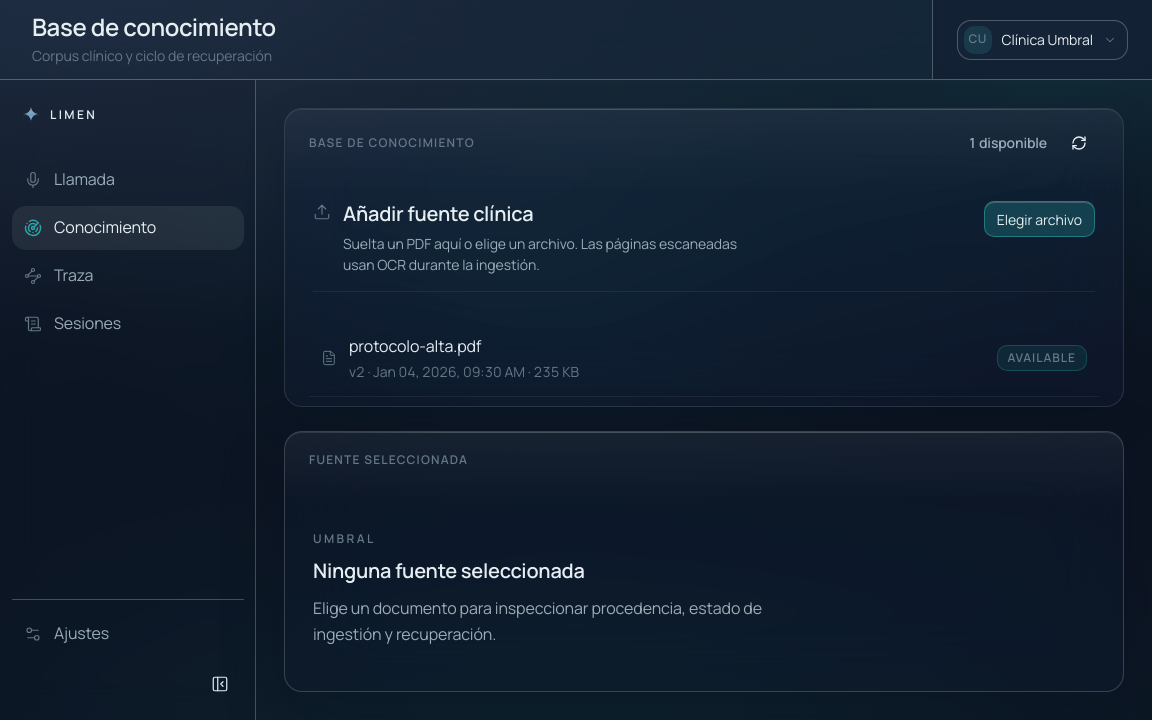
Knowledge console › names the document in the delete confirmation
Click the text "protocolo-alta.pdf": coordinates (415, 346) [349,335,481,357]
(page scrolled)
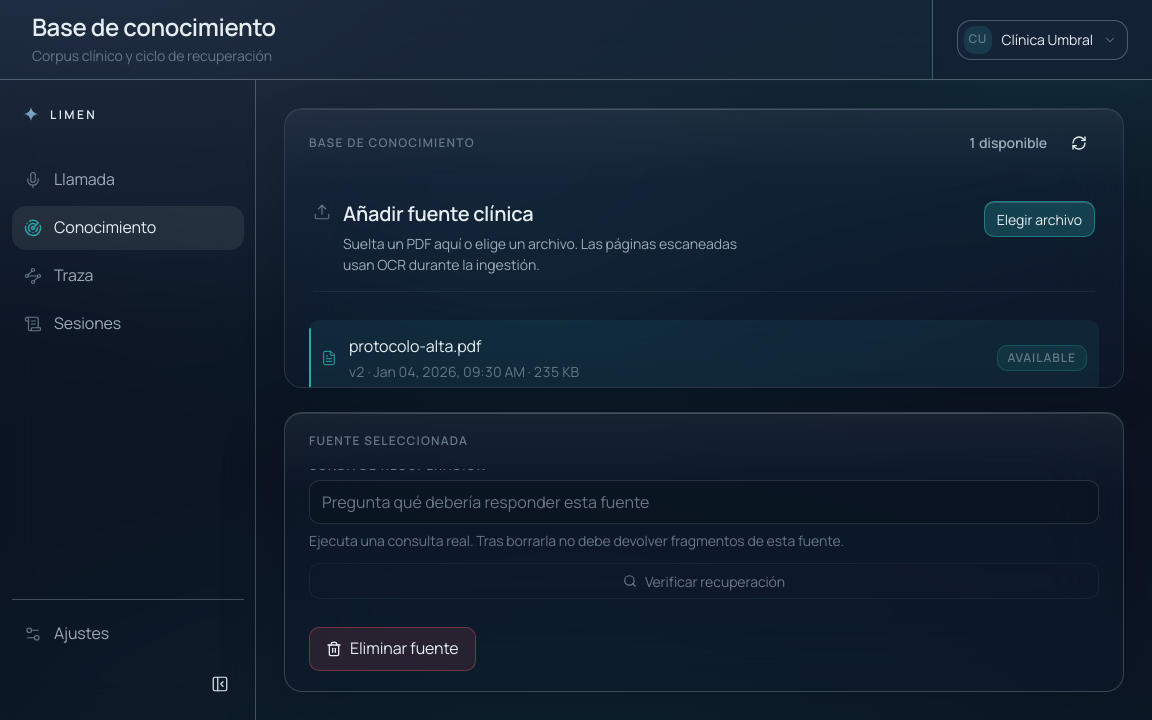
Click the button "Eliminar fuente": coordinates (392, 649) [309,627,476,671]
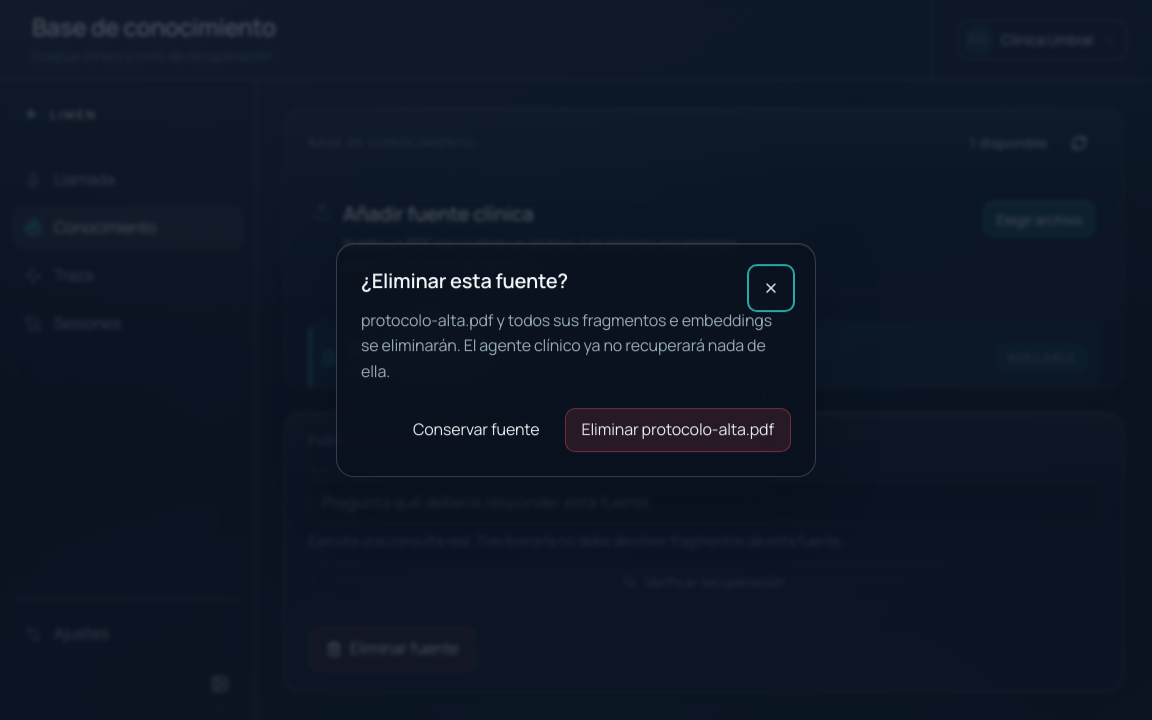
Check: the dialog "Eliminar esta fuente" shows "protocolo-alta.pdf", box [361,309,772,382]
Check: the dialog "Eliminar esta fuente" shows "ya no recuperará nada de ella", box [361,309,772,382]
